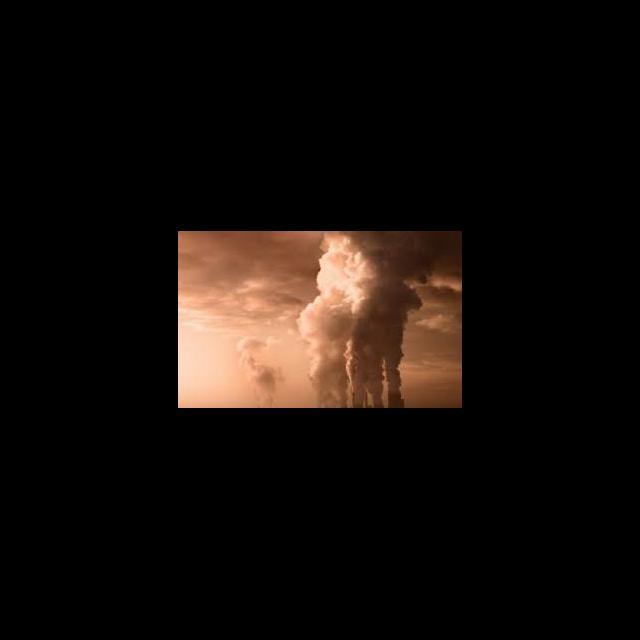Smoke: (304, 234, 422, 340), (233, 338, 280, 398)
